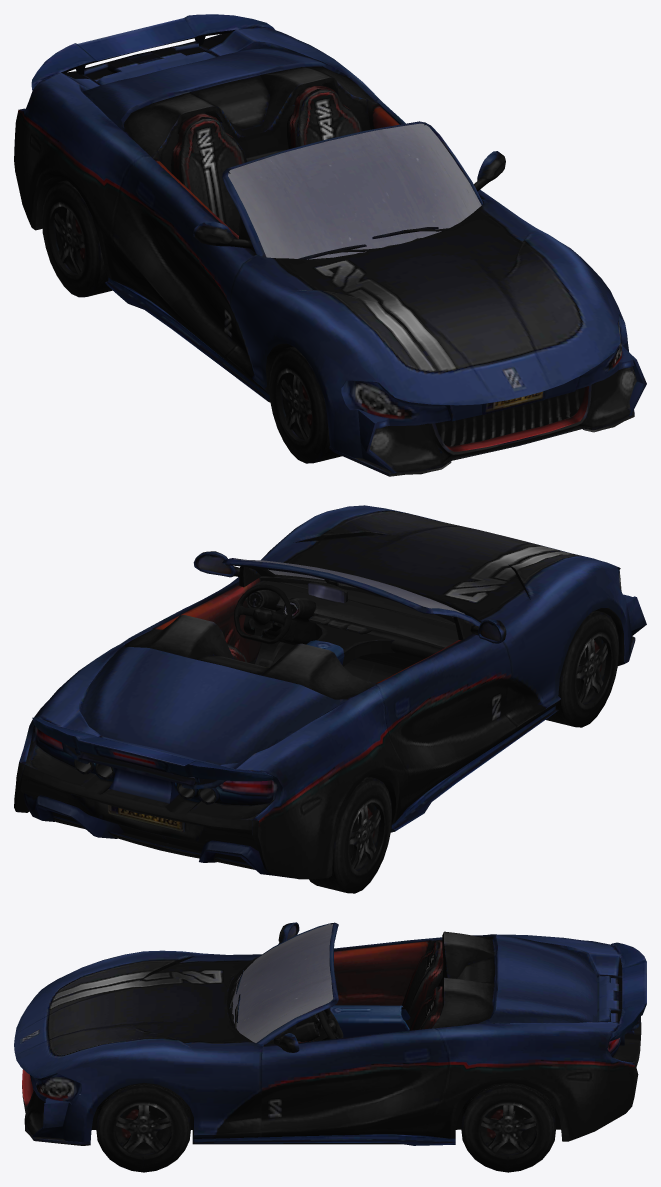
File: Roadster Futuristiccity.gltf
3 renders of one model, top to bottom at view 1: azimuth 30°, elevation 25°; view 2: azimuth 150°, elevation 25°; view 3: azimuth 270°, elevation 25°, orthographic. The views are drawn at different scales.
Parts seen in each view (by area): view 1: Vehicle_Roadster_StarLord_Body, Vehicle_Roadster_StarLord_Glass; view 2: Vehicle_Roadster_StarLord_Body, Vehicle_Roadster_StarLord_Glass; view 3: Vehicle_Roadster_StarLord_Body, Vehicle_Roadster_StarLord_Glass.
Part boxes in pixels (x1,y1,x2,y2): Vehicle_Roadster_StarLord_Body: (14, 14, 646, 476); Vehicle_Roadster_StarLord_Glass: (228, 123, 481, 259); Vehicle_Roadster_StarLord_Body: (14, 505, 646, 893); Vehicle_Roadster_StarLord_Glass: (234, 559, 464, 614); Vehicle_Roadster_StarLord_Body: (14, 922, 646, 1172); Vehicle_Roadster_StarLord_Glass: (232, 924, 333, 1042).
Bounding box in the file's own units: 1.76 × 1.09 × 3.89.
Materials: 2 (2 with a texture image).
